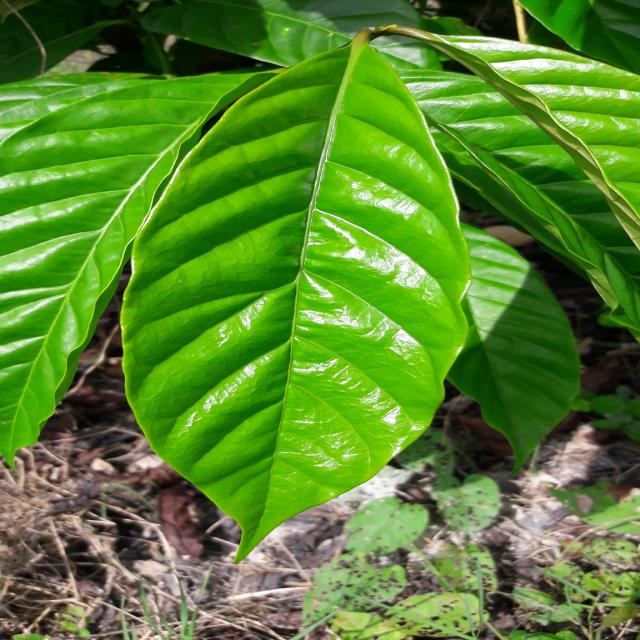Sanas: (128, 45, 476, 561)
